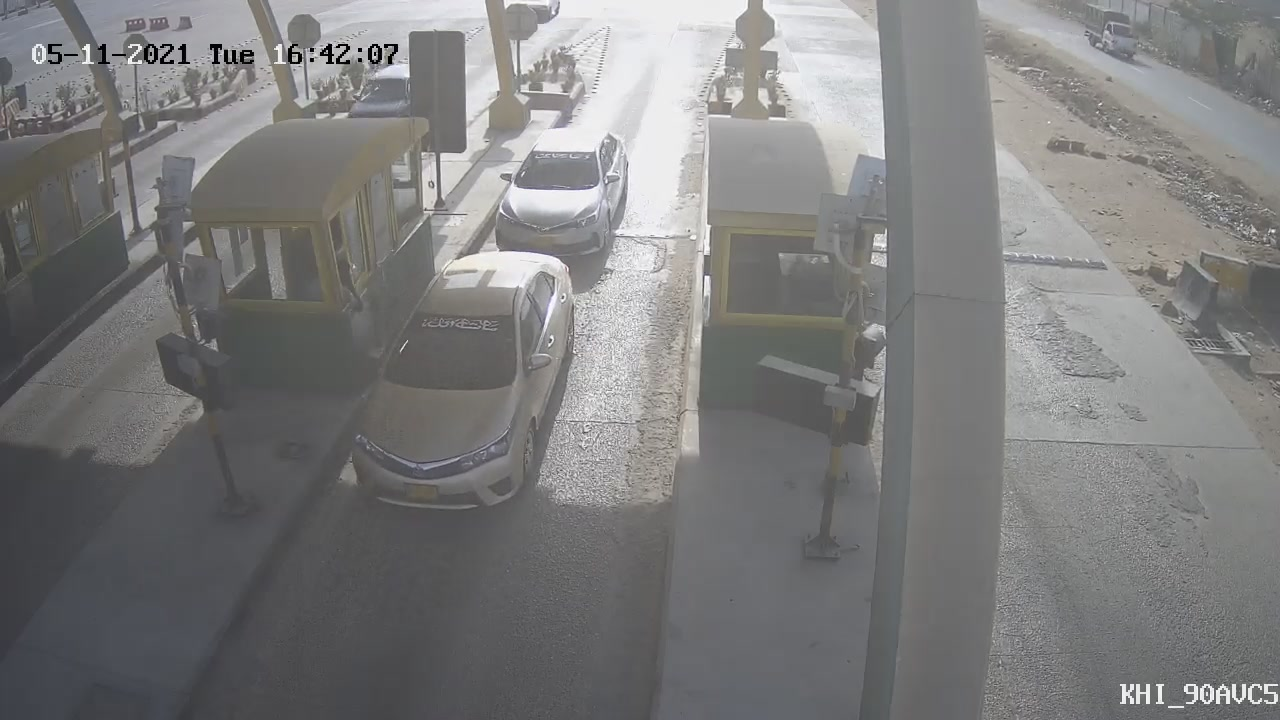F1: (330, 238, 598, 530), (481, 117, 644, 279)
